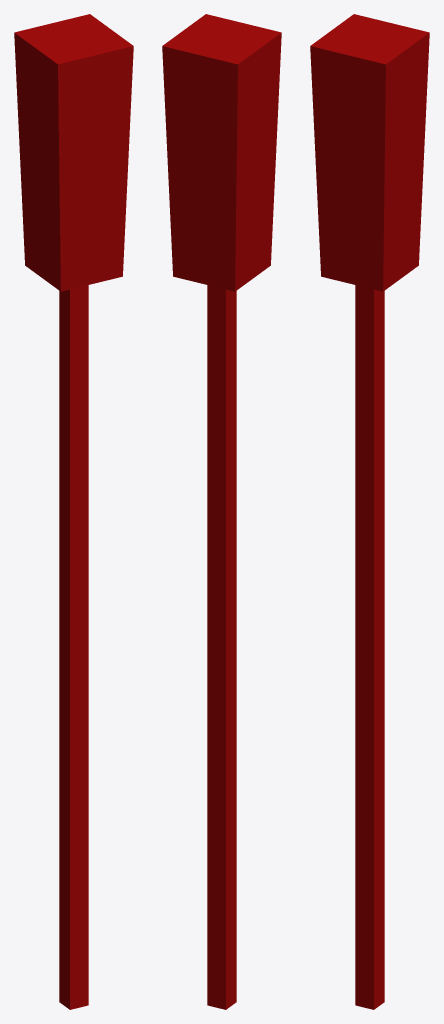
The model's file is SM_Prop_Tiki_Torch_02_Collision.glb.
The picture shows the model from 3 angles, left to right: view 1: azimuth 30°, elevation 25°; view 2: azimuth 150°, elevation 25°; view 3: azimuth 330°, elevation 25°; orthographic projection.
Visible parts, largest first — view 1: SM_Prop_Tiki_Torch_02_Collision; view 2: SM_Prop_Tiki_Torch_02_Collision; view 3: SM_Prop_Tiki_Torch_02_Collision.
Boxes of the visible parts, left/top/right/bottom form: SM_Prop_Tiki_Torch_02_Collision: left=14, top=14, right=133, bottom=1009; SM_Prop_Tiki_Torch_02_Collision: left=162, top=14, right=281, bottom=1009; SM_Prop_Tiki_Torch_02_Collision: left=310, top=14, right=429, bottom=1009.
Bounding box in the file's own units: 0.1895 × 2.3 × 0.1895.
